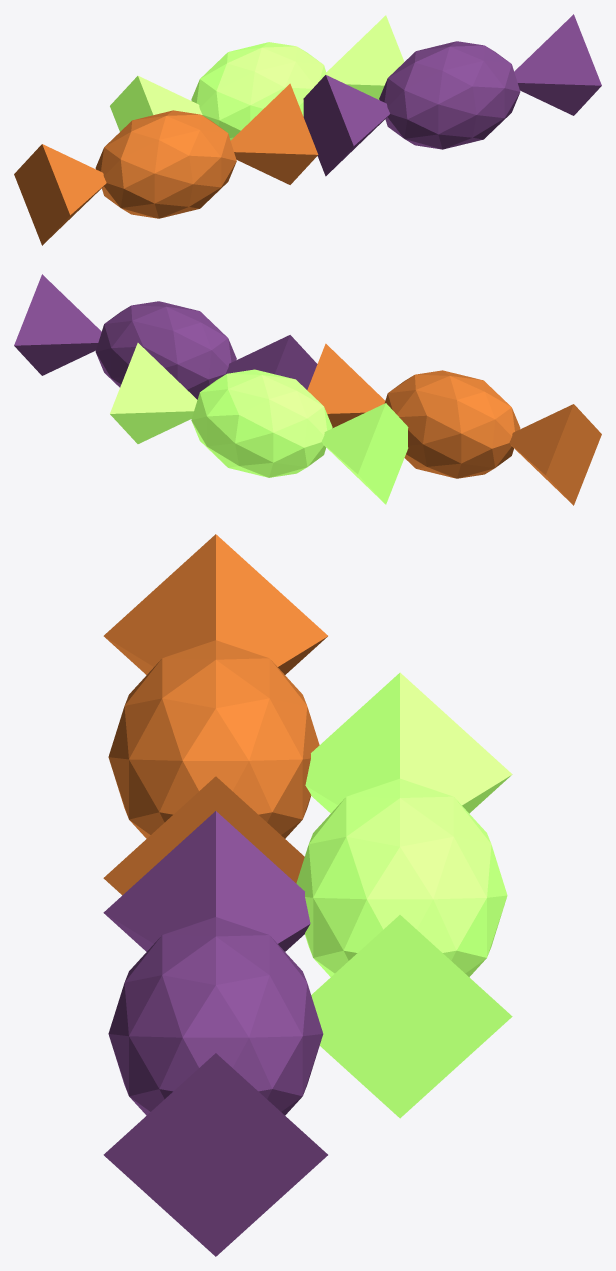
Rendered from halloween-sweets.glb.
The picture shows the model from 3 angles, top to bottom: view 1: azimuth 30°, elevation 25°; view 2: azimuth 150°, elevation 25°; view 3: azimuth 270°, elevation 25°; orthographic projection. The views are drawn at different scales.
Visible parts, largest first — view 1: wrapped-sweets; view 2: wrapped-sweets; view 3: wrapped-sweets.
Part boxes in pixels (bbox=[...]): wrapped-sweets: bbox=[14, 14, 601, 245]; wrapped-sweets: bbox=[14, 274, 601, 505]; wrapped-sweets: bbox=[103, 534, 512, 1256].
Size of the model in its own units: 0.6 by 0.11 by 0.2.
